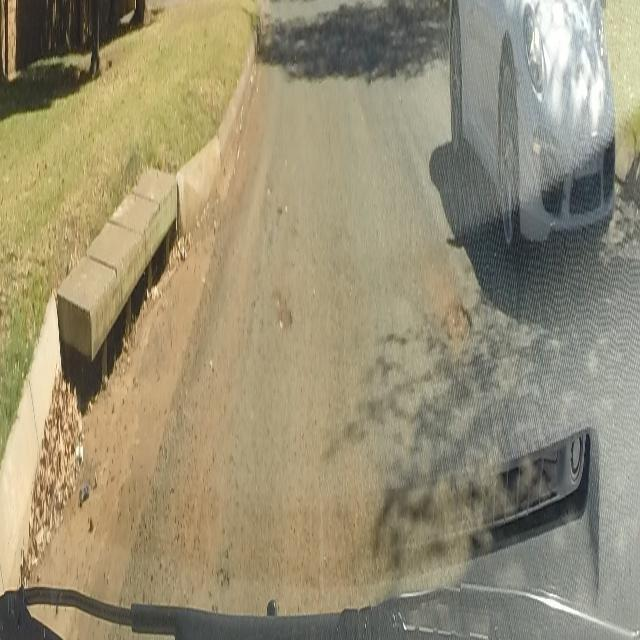pothole: (439, 300, 472, 345), (276, 302, 294, 326)
